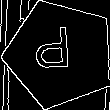P_S: (39, 28, 80, 80)
